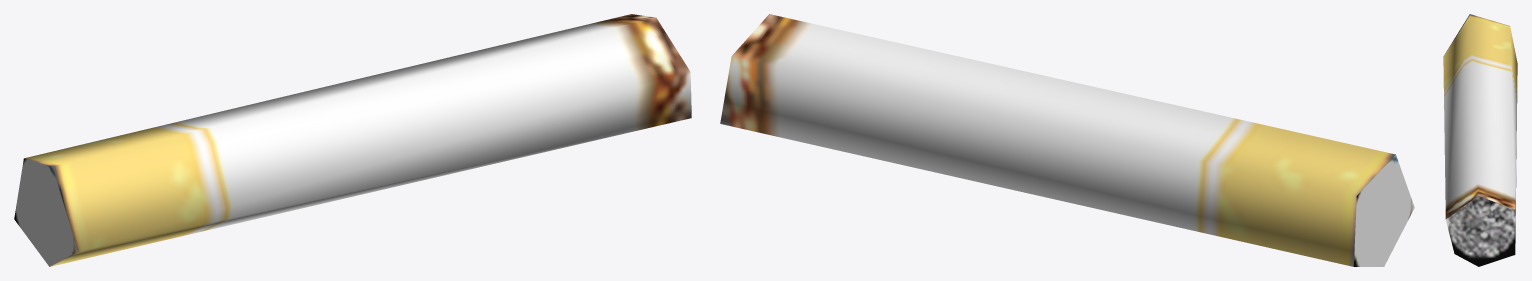
Rendered from SM_Cigarette.glb.
3 views of the same model, side by side, from view 1: azimuth 30°, elevation 25°; view 2: azimuth 150°, elevation 25°; view 3: azimuth 270°, elevation 25° (orthographic). The views are drawn at different scales.
Parts seen in each view (by area): view 1: SM_Cigarette; view 2: SM_Cigarette; view 3: SM_Cigarette.
Boxes of the visible parts, left/top/right/bottom form: SM_Cigarette: left=14, top=14, right=691, bottom=266; SM_Cigarette: left=720, top=14, right=1414, bottom=266; SM_Cigarette: left=1443, top=14, right=1517, bottom=266.
Size of the model in its own units: 0.0489 by 0.00818 by 0.00825.
Materials: 1 (1 with a texture image).
